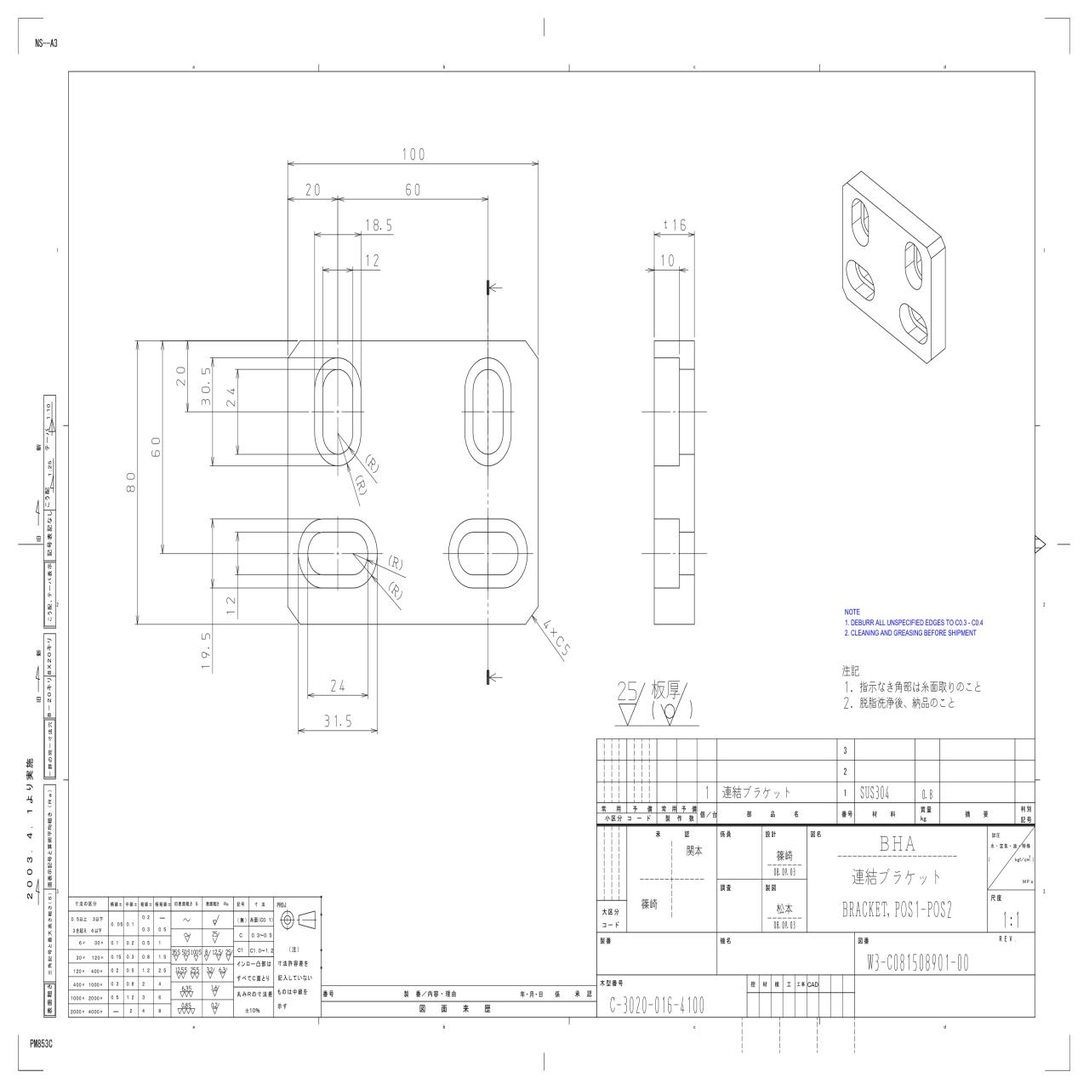basic_dimension: (366, 218, 392, 231), (201, 368, 210, 405), (201, 633, 210, 668), (325, 715, 351, 727), (403, 148, 424, 160), (151, 438, 160, 457), (126, 473, 135, 492), (366, 254, 379, 267), (331, 679, 345, 691), (226, 388, 235, 406), (176, 367, 185, 385), (406, 183, 419, 195), (306, 183, 319, 195), (661, 254, 674, 266), (226, 598, 235, 614)
dimension_chamfer_symbol: (555, 635, 571, 656)
dimension_chamfer_text: (560, 642, 571, 657)
dimension_radius_symbol: (366, 456, 378, 472), (390, 582, 401, 599), (356, 478, 367, 493), (391, 555, 401, 570)
dimension_thickness_symbol: (662, 218, 685, 231)
surface_finish_symbol: (618, 682, 645, 726)
surface_finish_text: (617, 681, 638, 700)
